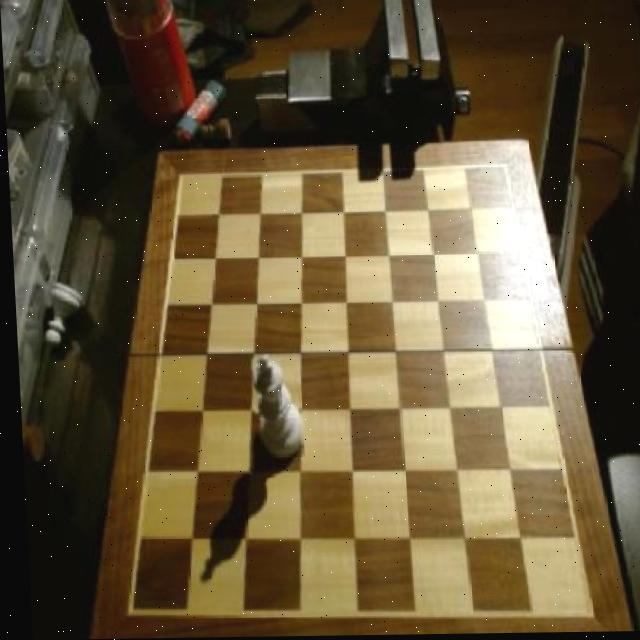white-bishop: (247, 355, 300, 461)
